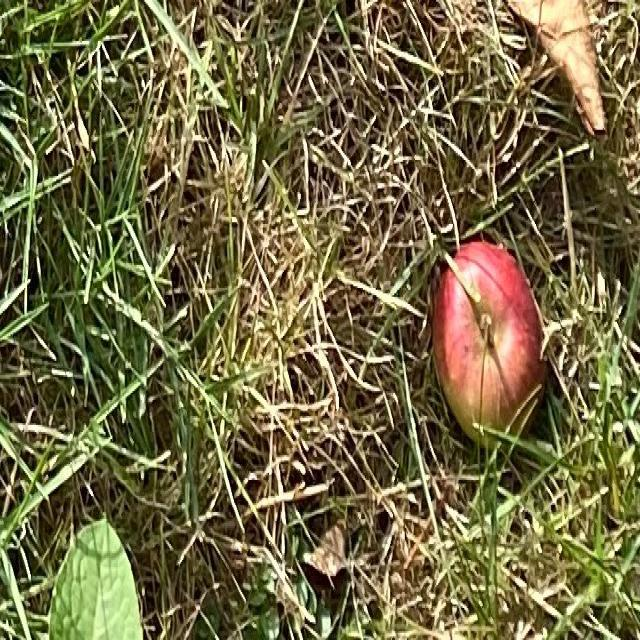Apples: (437, 244, 540, 446)
